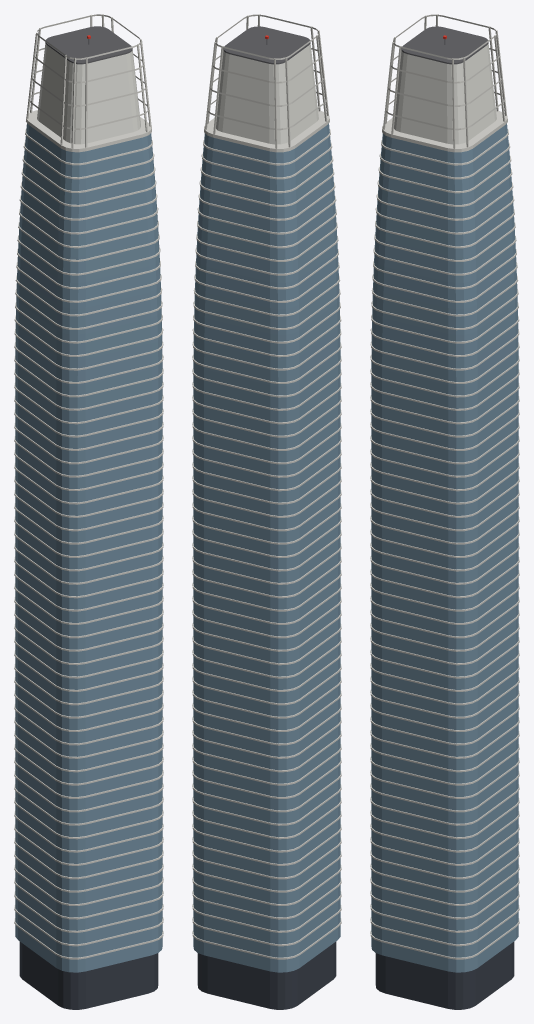
File: salesforce_tower.glb
3 renders of one model, left to right at view 1: azimuth 30°, elevation 25°; view 2: azimuth 150°, elevation 25°; view 3: azimuth 330°, elevation 25°, orthographic.
Parts seen in each view (by area): view 1: salesforce_tower; view 2: salesforce_tower; view 3: salesforce_tower.
Part boxes in pixels (left/top/right/bottom): salesforce_tower: left=14, top=14, right=163, bottom=1009; salesforce_tower: left=192, top=14, right=341, bottom=1009; salesforce_tower: left=370, top=14, right=519, bottom=1009.
Size of the model in its own units: 34.5 by 296 by 34.5.
